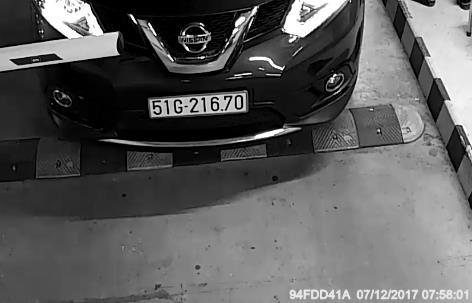License-plate: (140, 89, 264, 125)
